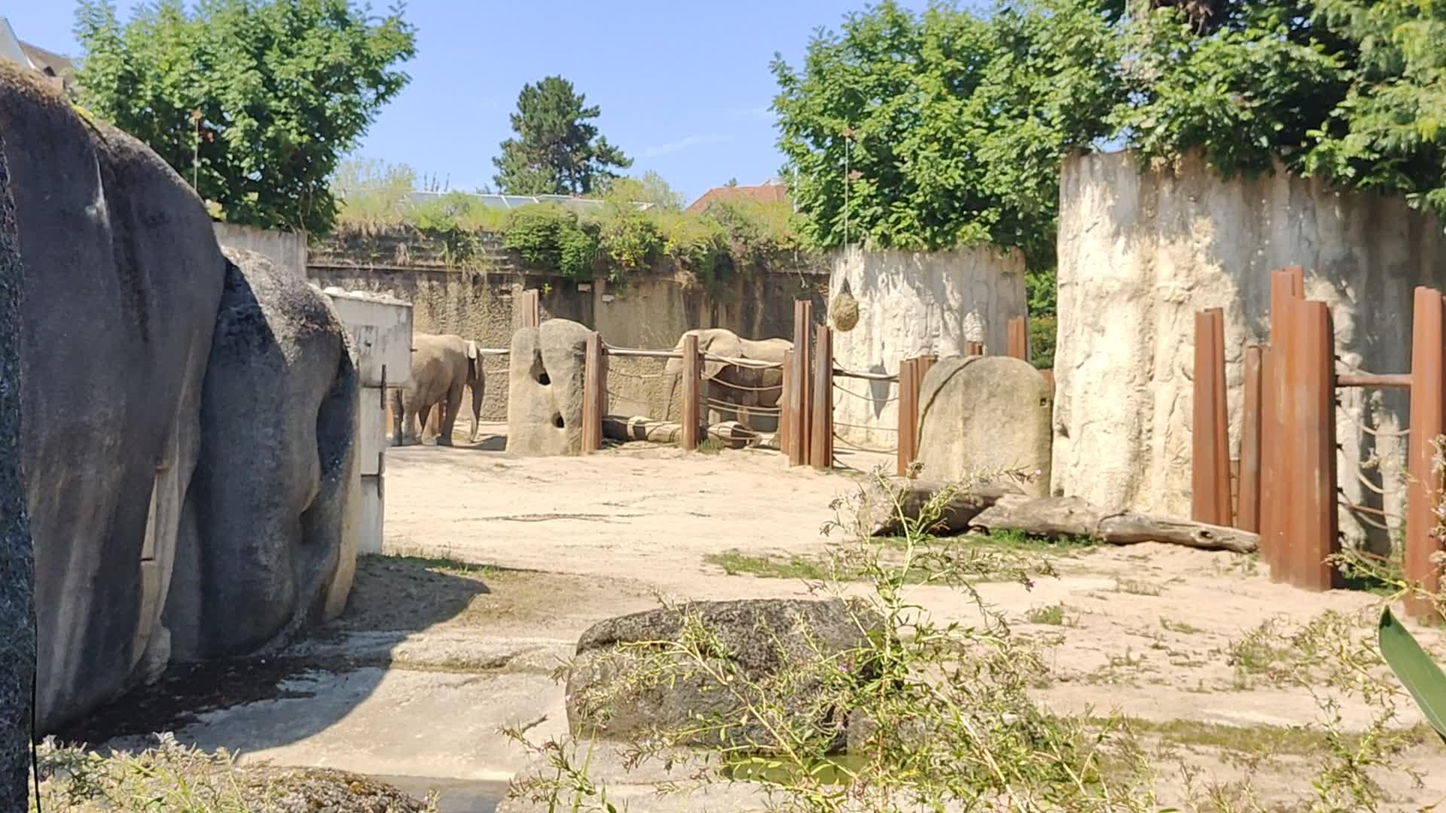raccoon: (662, 328, 795, 432), (387, 331, 486, 447)
